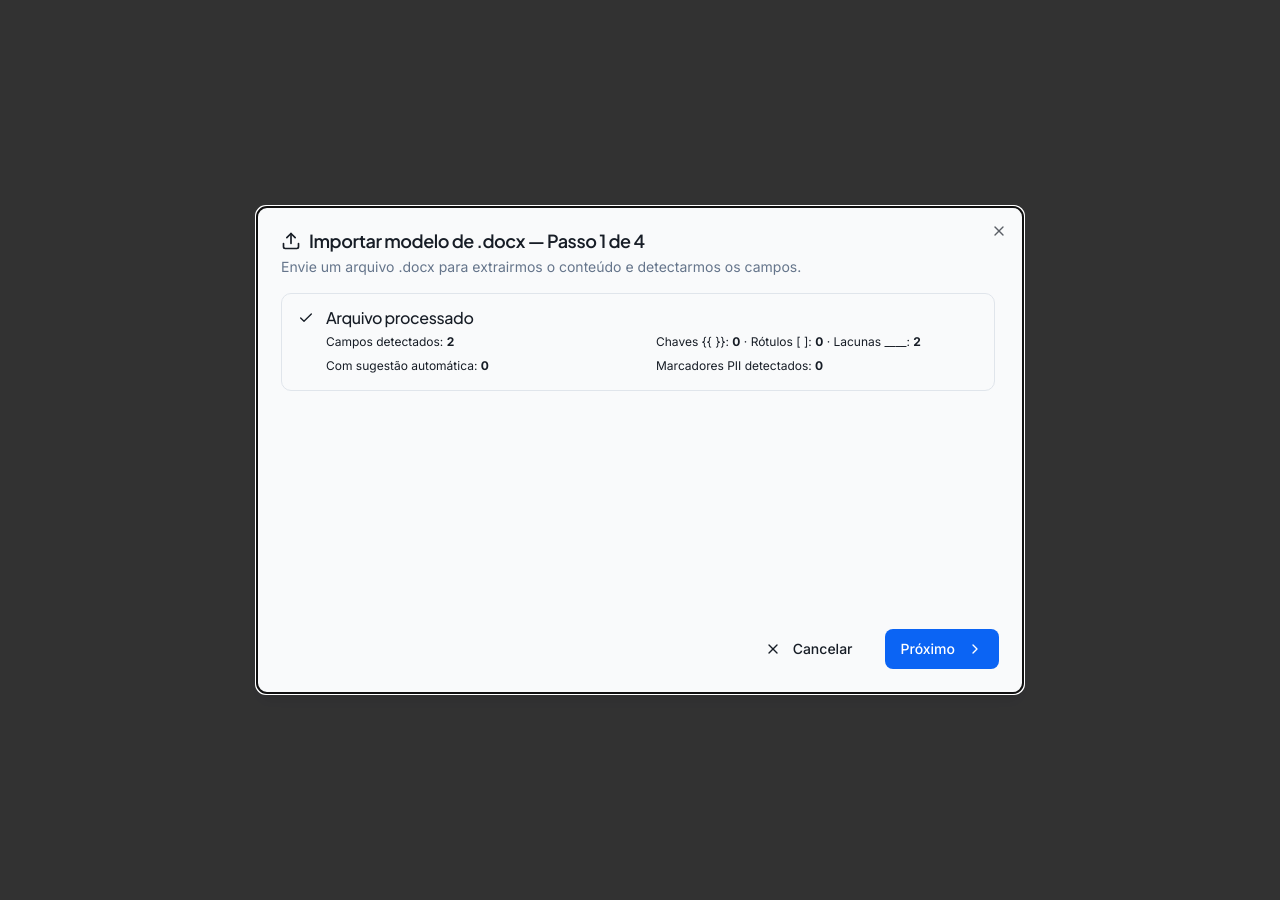
Test: ImportDocxDialog — tela de mapeamento › tudo-medium: linhas nascem 'a revisar', Próximo bloqueia, e o ignorar em massa exige confirmação com contagem
Earlier steps of the test are not shown.
Expected: the heading "Arquivo processado" is shown, [326,307,474,328]
Click the button "Próximo": (942, 649) [884,629,999,669]
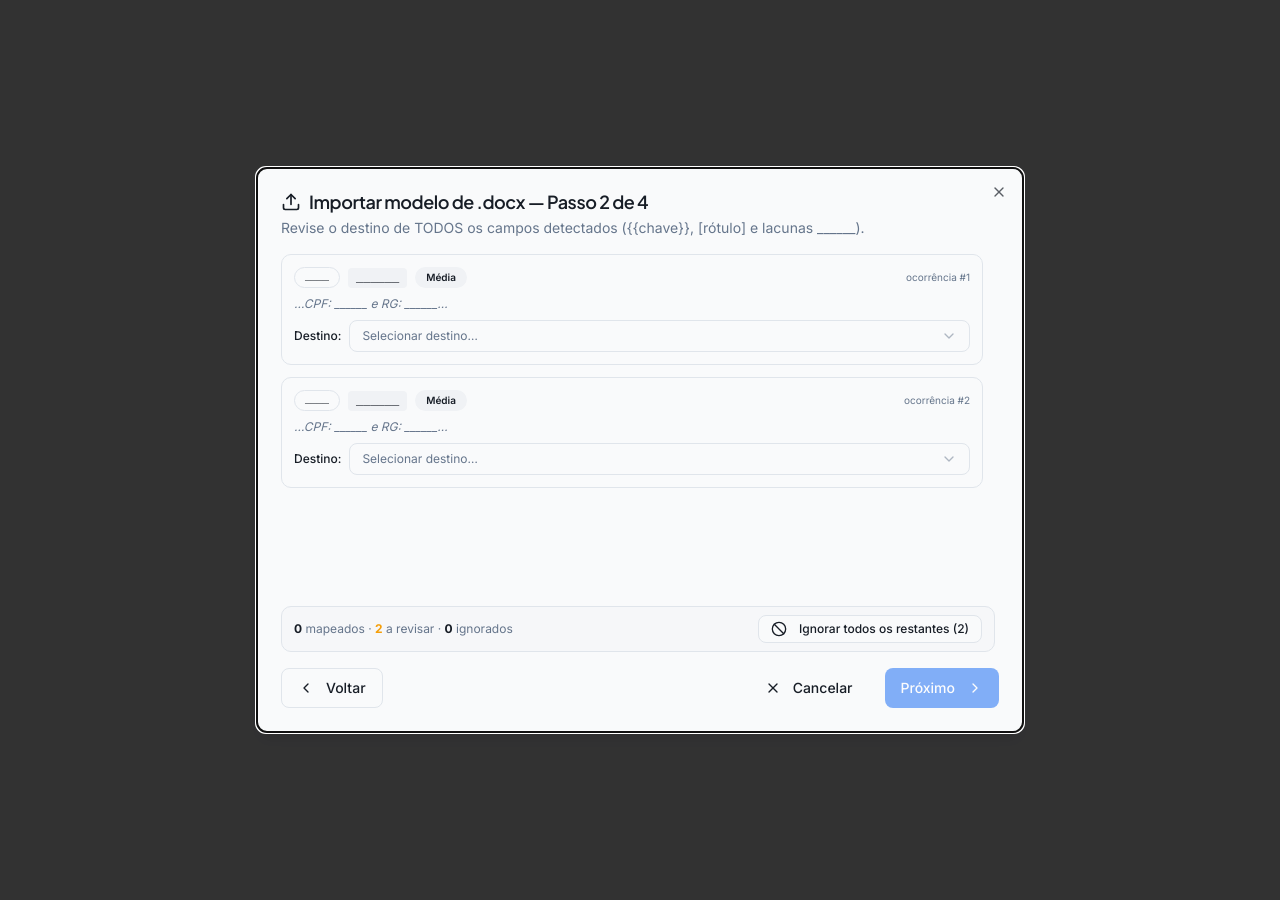
Now the text "0 mapeados · 2 a revisar · 0 ignorados" is shown, box [294,621,513,637]
Now the button "Próximo" is disabled, box [884,668,999,708]
Click the button "Ignorar todos os restantes (2)": (870, 629) [758,615,982,643]
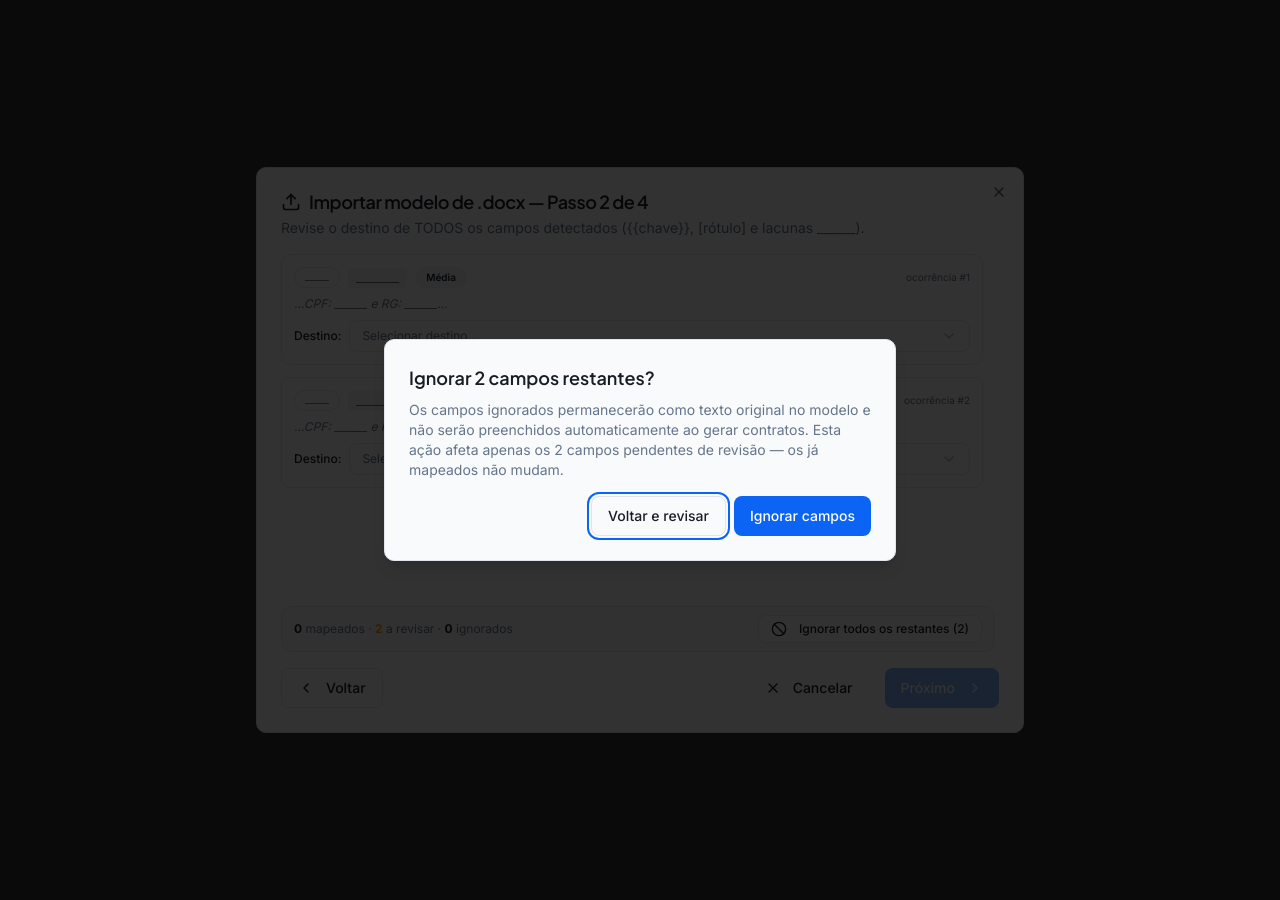
Now the dialog that starts with "Ignorar" shows "Ignorar 2 campos restantes?", box [384,339,896,561]
Click the button "Ignorar campos": (802, 516) [734,496,871,536]
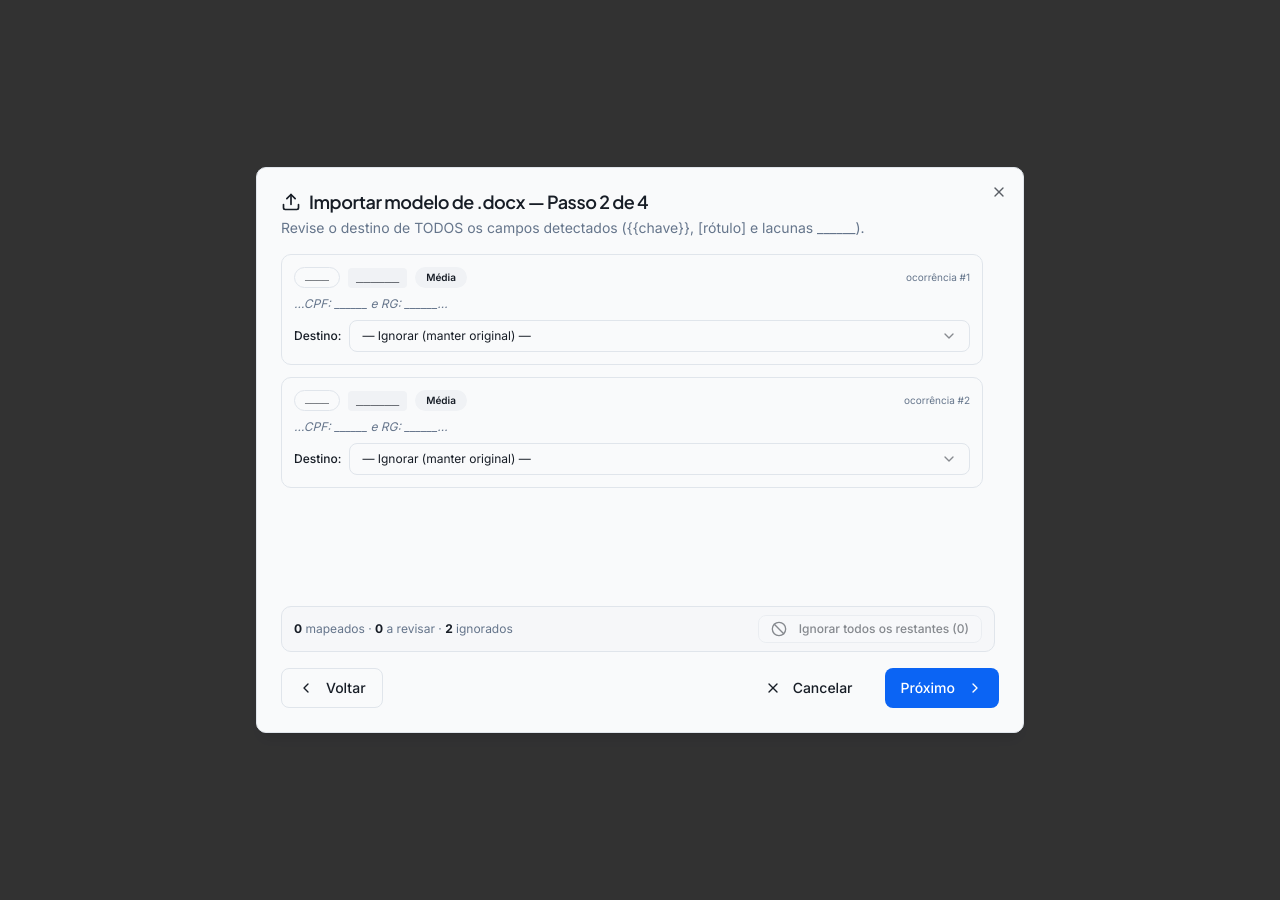
Now the text "0 mapeados · 0 a revisar · 2 ignorados" is shown, box [294,621,513,637]
Now the button "Próximo" is enabled, box [884,668,999,708]
